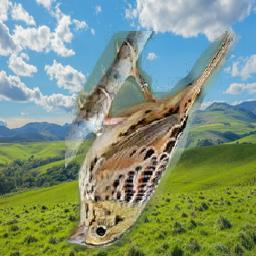Sparrow: (66, 32, 243, 253)
